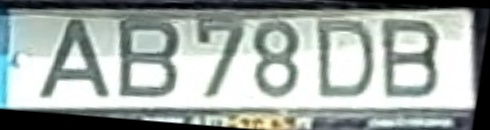7: (193, 17, 248, 101)
8: (247, 15, 303, 102)
A: (34, 16, 115, 100)
B: (115, 18, 183, 101), (378, 17, 443, 101)
D: (314, 17, 376, 102)
